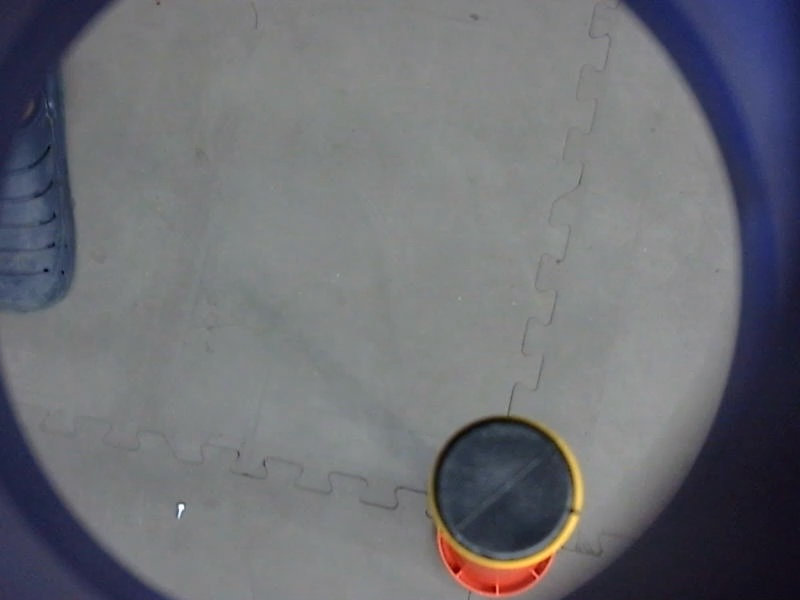tip: (420, 409, 590, 575)
